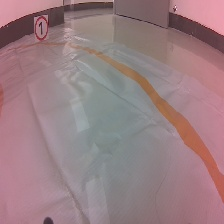limit: (33, 14, 50, 43)
